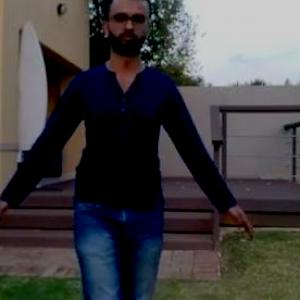land: (1, 26, 228, 299)
